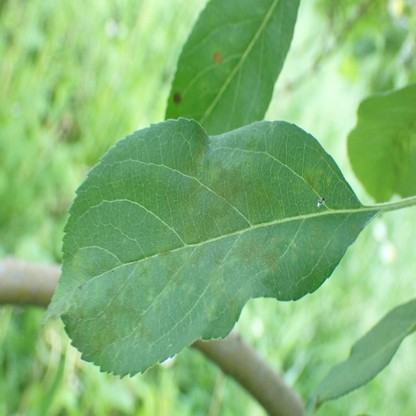frogeye_leaf_spot: (213, 52, 221, 63), (173, 93, 181, 102)
scab: (51, 260, 155, 358), (158, 246, 202, 293), (211, 161, 244, 201), (207, 266, 226, 318), (229, 239, 256, 266), (295, 168, 322, 193), (259, 247, 277, 269), (187, 185, 202, 211), (194, 147, 204, 163), (229, 295, 236, 308)
